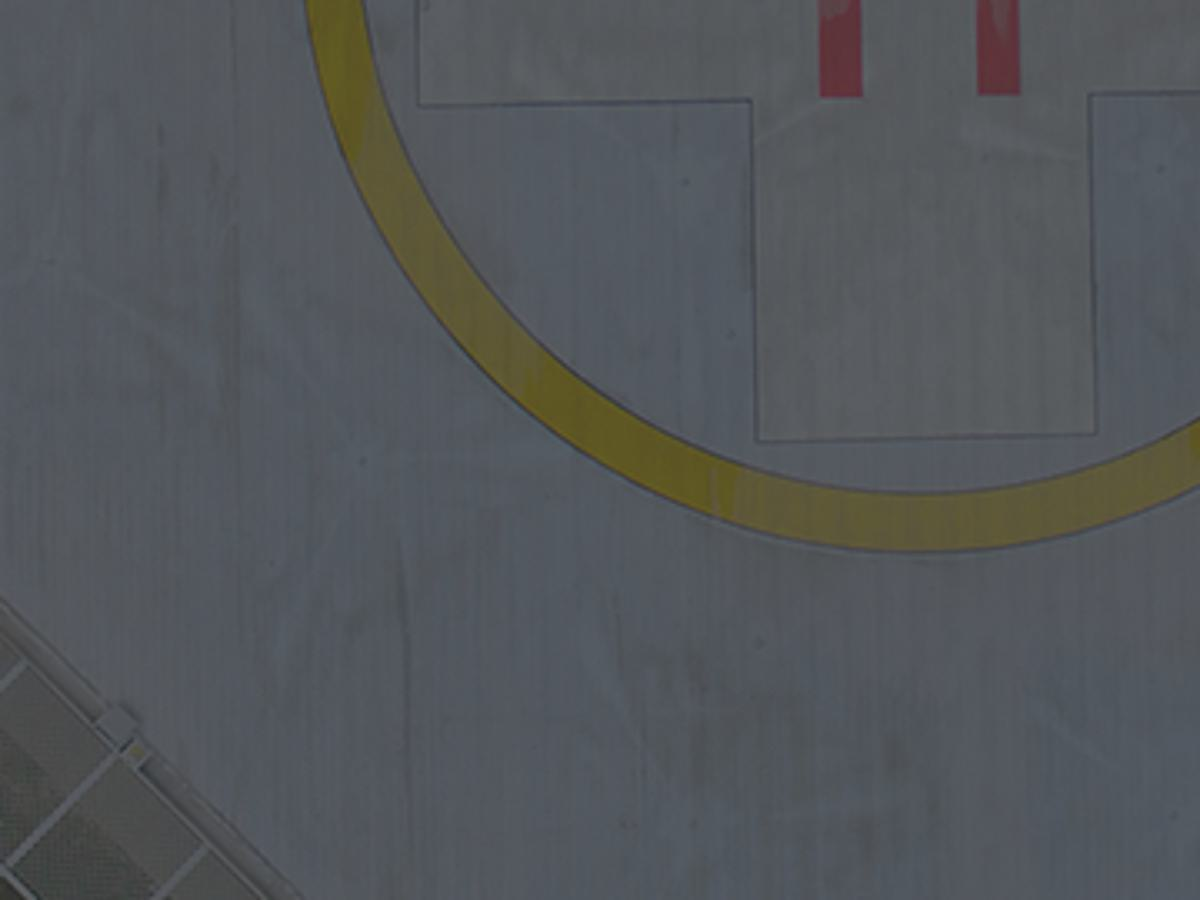Apron: (276, 2, 1200, 597)
